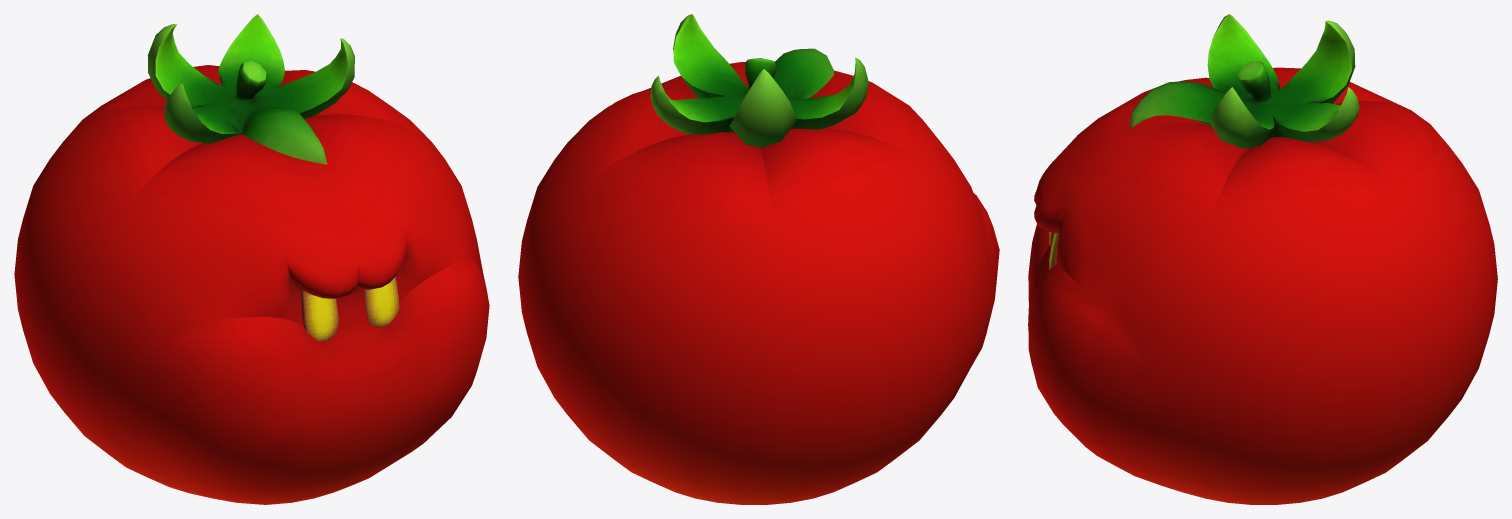
The model's file is tomato.glb.
3 renders of one model, left to right at view 1: azimuth 30°, elevation 25°; view 2: azimuth 150°, elevation 25°; view 3: azimuth 270°, elevation 25°, orthographic.
Visible parts, largest first — view 1: Pecho_1__PechoBodyMat00; view 2: Pecho_1__PechoBodyMat00; view 3: Pecho_1__PechoBodyMat00.
Boxes of the visible parts, box(x1,y1,x2,y2) form: Pecho_1__PechoBodyMat00: box(14, 14, 489, 504); Pecho_1__PechoBodyMat00: box(518, 14, 999, 504); Pecho_1__PechoBodyMat00: box(1028, 14, 1497, 504).
Size of the model in its own units: 4.31 by 4.52 by 4.35.
3 materials, 3 textured.
